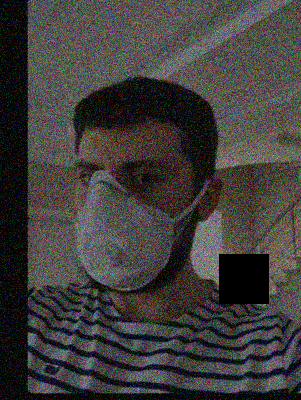with_mask: (72, 144, 176, 293)
